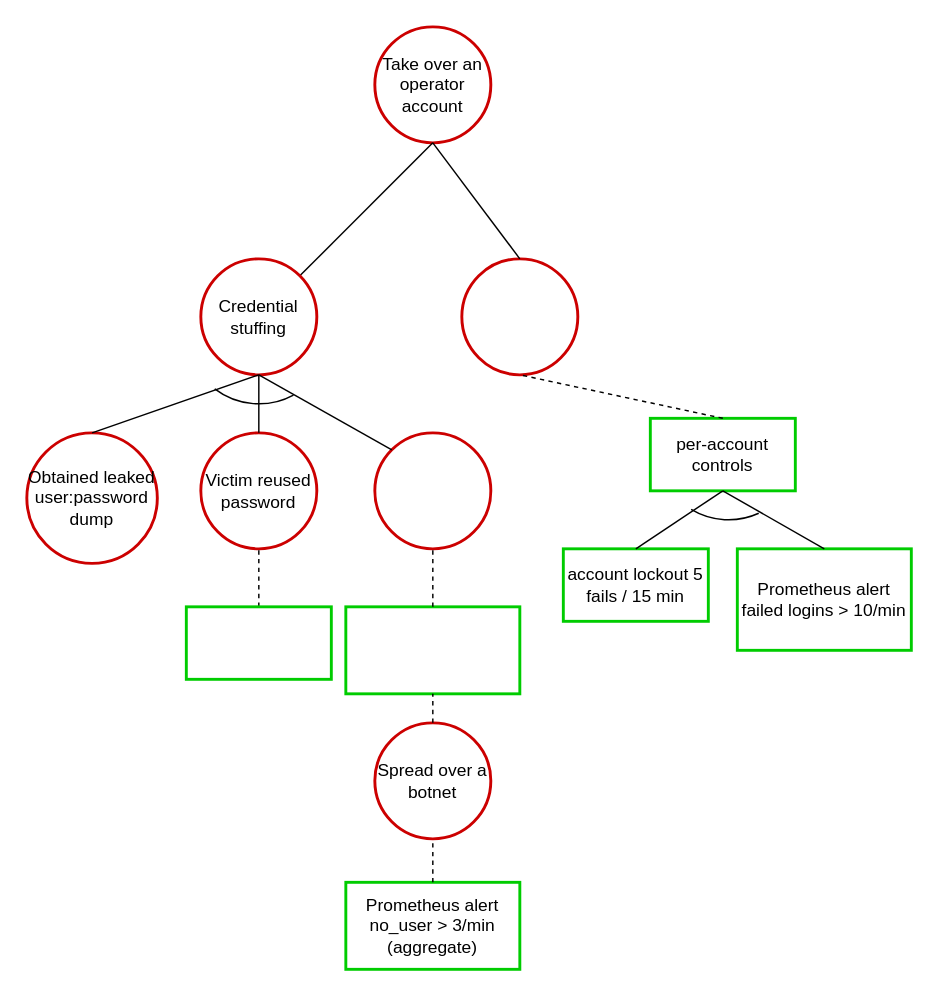
Some shapes in this 937 by 995 pixel diagram are drawn without their labels. The shapes that lost their labels are listed below. From the top down, each one's centre as x and y in pixels, then its label:
the point at 519,316: Brute-force one account
the point at 432,490: Replay dump at /login
the point at 258,642: MFA **
the point at 432,650: Wazuh 100111 >= 8 distinct users / 60s, same src
